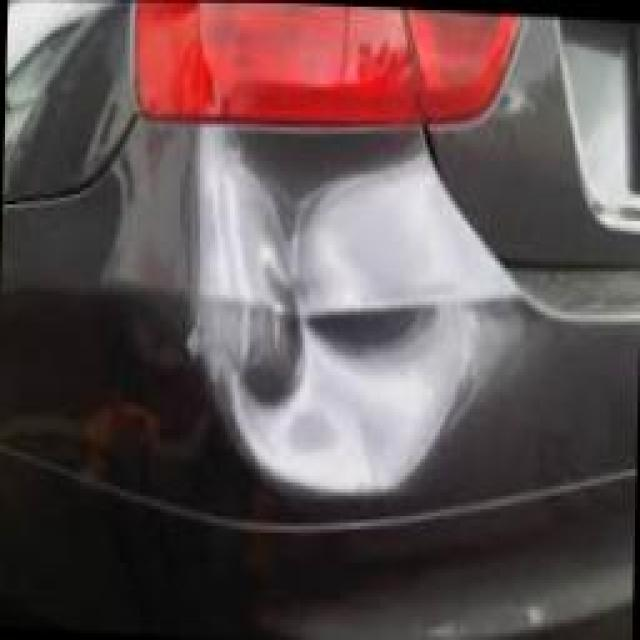Bumper: (140, 116, 534, 526)
